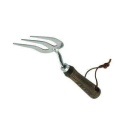Fork: (13, 27, 122, 101)
